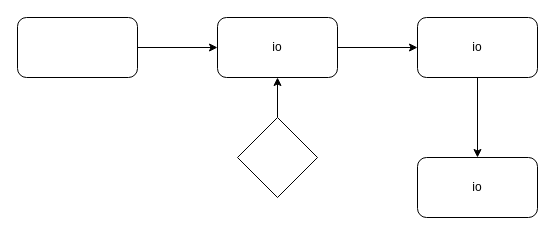
Some shapes in this 555 by 235 pixel diagram are drawn without their labels. Each missing label, with the centre of its shape:
"draw" goes at (77,47).
"大东" goes at (277,157).
